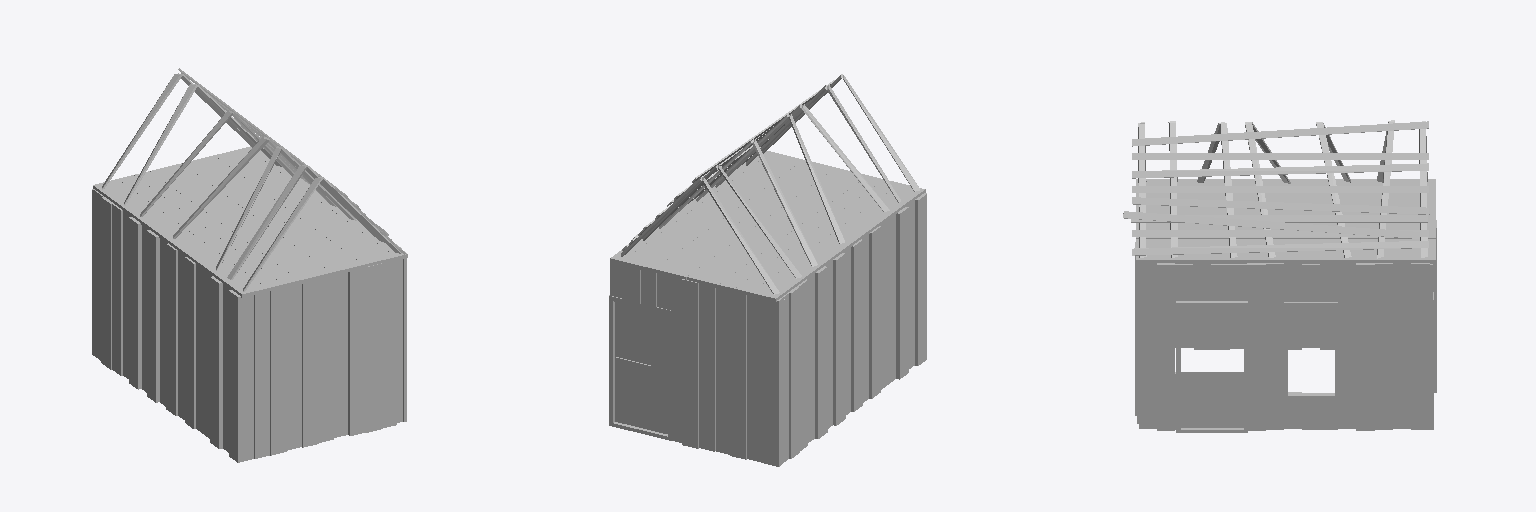
The model's file is Shed03.obj.
3 renders of one model, left to right at view 1: azimuth 30°, elevation 25°; view 2: azimuth 150°, elevation 25°; view 3: azimuth 270°, elevation 25°, orthographic.
Parts seen in each view (by area): view 1: polySurface91; view 2: polySurface91; view 3: polySurface91.
Boxes of the visible parts, x1=… form: polySurface91: x1=92, y1=68, x2=407, y2=462; polySurface91: x1=609, y1=74, x2=926, y2=466; polySurface91: x1=1123, y1=120, x2=1436, y2=432.
Size of the model in its own units: 9.84 by 14.16 by 15.06.